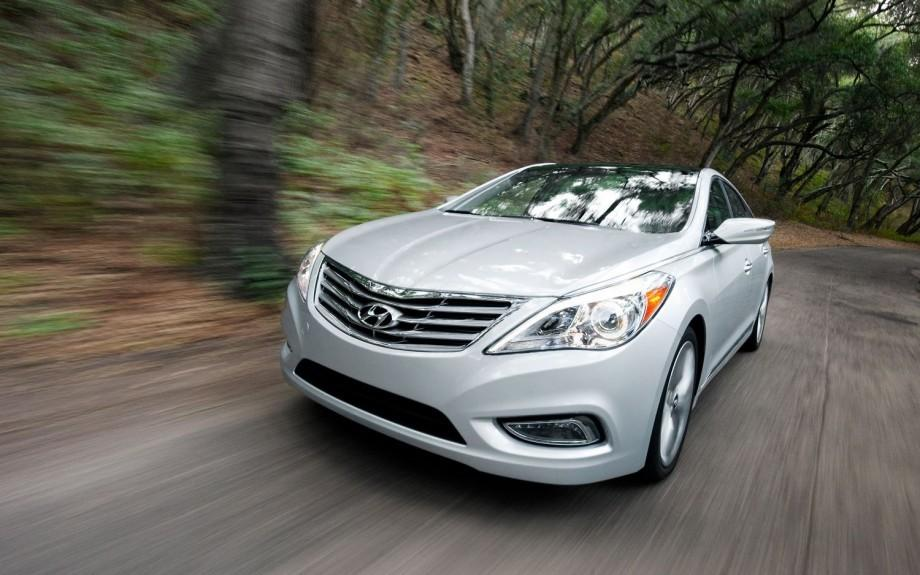Sedan: (278, 159, 776, 487)
